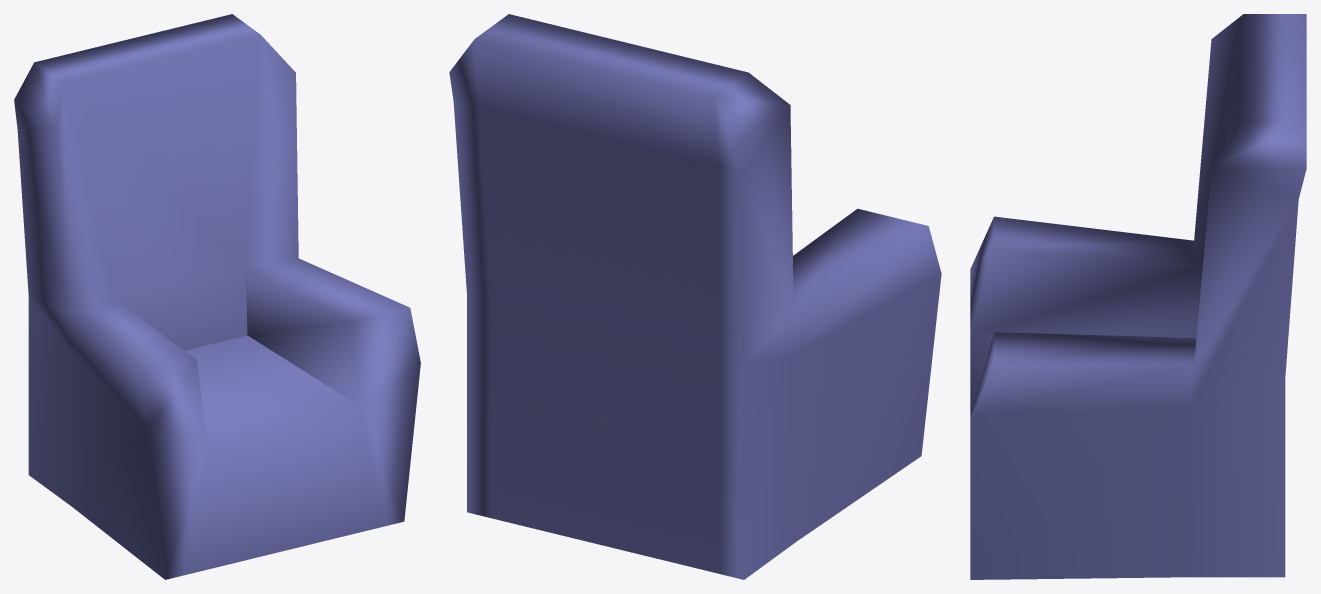
Rendered from sm_Fauteuil.fbx.
3 views of the same model, side by side, from view 1: azimuth 30°, elevation 25°; view 2: azimuth 150°, elevation 25°; view 3: azimuth 270°, elevation 25° (orthographic). The views are drawn at different scales.
Parts seen in each view (by area): view 1: sm_Fauteuil; view 2: sm_Fauteuil; view 3: sm_Fauteuil.
Part boxes in pixels (x1,y1,x2,y2): sm_Fauteuil: (14, 14, 420, 579); sm_Fauteuil: (449, 14, 941, 579); sm_Fauteuil: (970, 14, 1306, 579).
Bounding box in the file's own units: 0.9551 × 1.35 × 0.9184.
